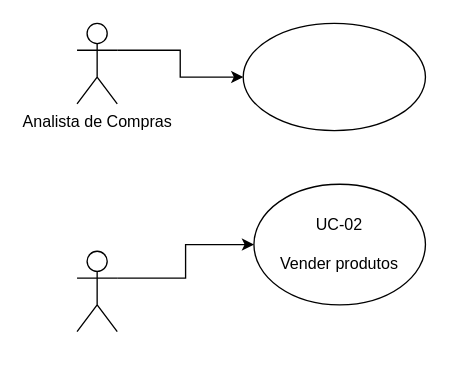
The diagram is 449 pixels wide and 383 high, and some of its shapes have lost their labels. Each missing label, with the box of its shape:
Analista de Vendas: (76, 250, 117, 332)
UC-01 Fazer pedido: (242, 22, 425, 131)
